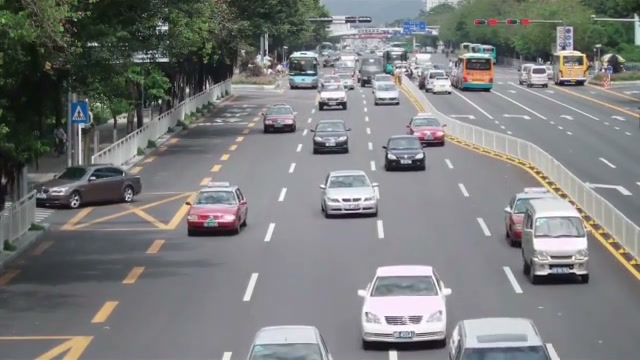bus: (288, 51, 319, 89)
car: (357, 264, 452, 349), (520, 202, 590, 285), (447, 317, 561, 360), (36, 164, 143, 209), (503, 190, 567, 248), (185, 185, 248, 236), (245, 325, 334, 360), (319, 169, 380, 219), (382, 134, 427, 172), (405, 114, 446, 147), (312, 120, 350, 154), (263, 104, 297, 133), (373, 77, 400, 105), (424, 70, 452, 95)
truck: (551, 50, 589, 86), (527, 65, 549, 88)
